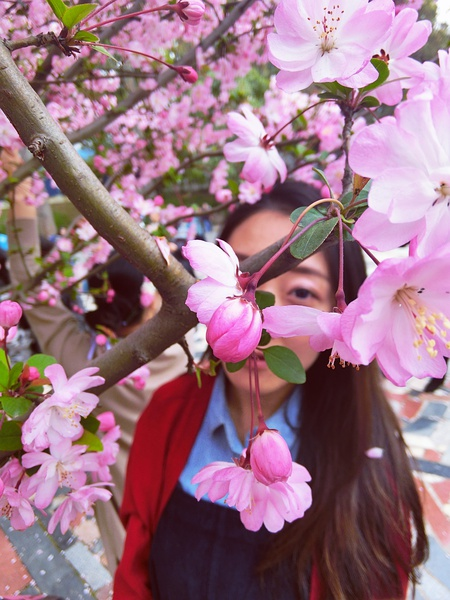face: (219, 219, 332, 395)
